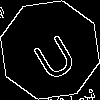U: (25, 25, 81, 83)
